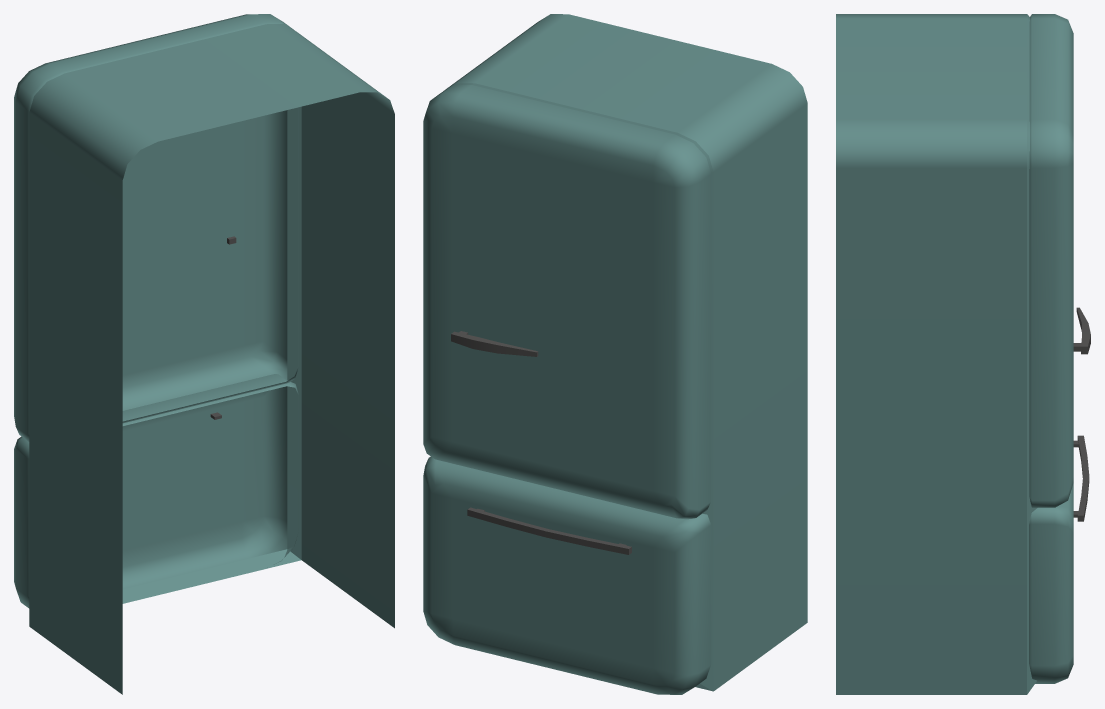
File: refregerator.fbx
3 renders of one model, left to right at view 1: azimuth 30°, elevation 25°; view 2: azimuth 150°, elevation 25°; view 3: azimuth 270°, elevation 25°, orthographic. The views are drawn at different scales.
Visible parts, largest first — view 1: refregerator; view 2: refregerator; view 3: refregerator.
Boxes of the visible parts, x1=… form: refregerator: x1=14, y1=14, x2=394, y2=694; refregerator: x1=423, y1=14, x2=807, y2=694; refregerator: x1=836, y1=14, x2=1090, y2=694.
Bounding box in the file's own units: 132 × 253 × 105.
